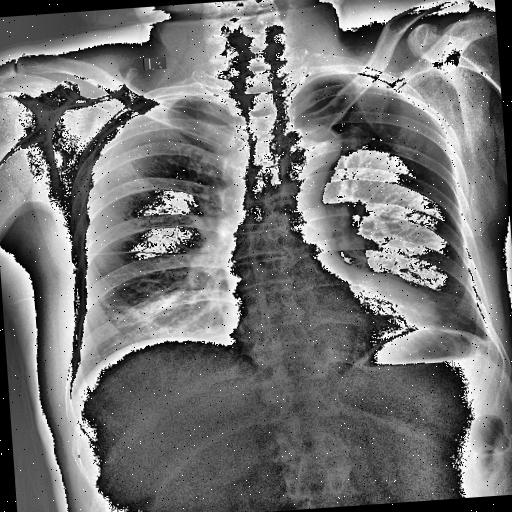0- Aortic enlargement: (278, 123, 344, 182), (278, 124, 344, 170), (280, 122, 344, 166)
11- Pleural thickening: (115, 91, 177, 124)
3- Cardiomegaly: (216, 274, 440, 352), (220, 280, 442, 358), (216, 297, 440, 342)
